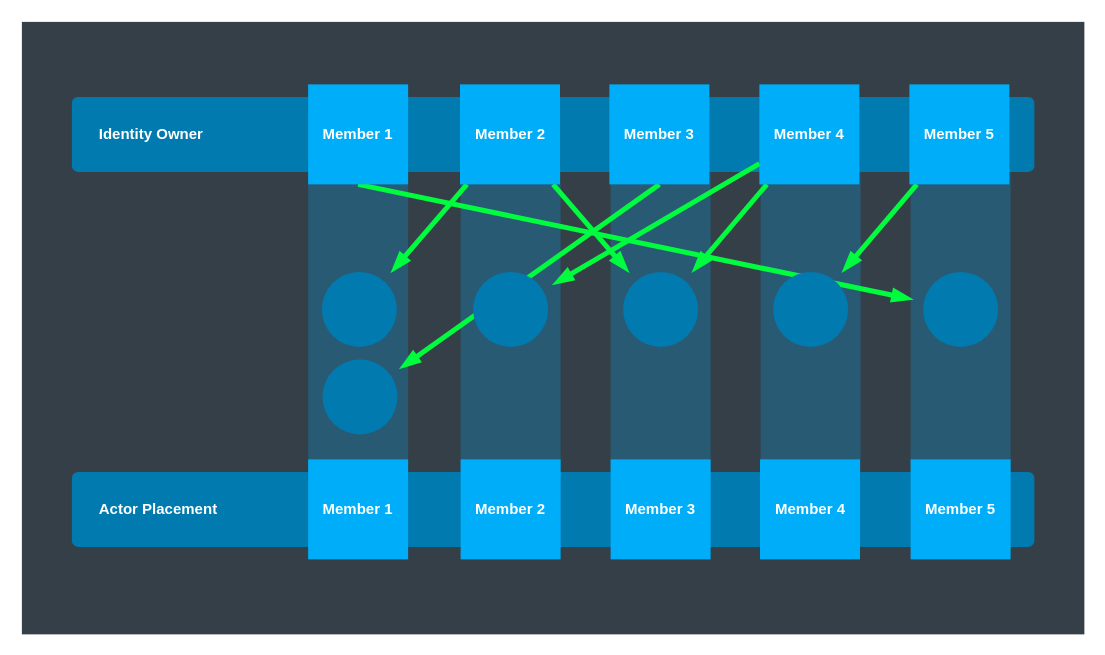
This 1105x655 diagram has some shape labels left out. Each missing label, with the centre of its shape:
Alexey: the point at 660,308
Christian: the point at 510,308
Damian: the point at 810,308
Magne: the point at 359,396
PotterDai: the point at 960,308
Roger: the point at 358,308
